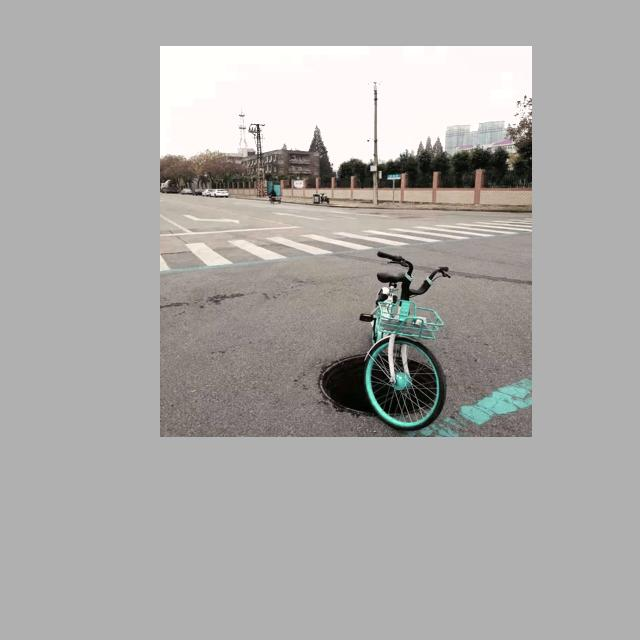lose: (320, 352, 442, 419)
